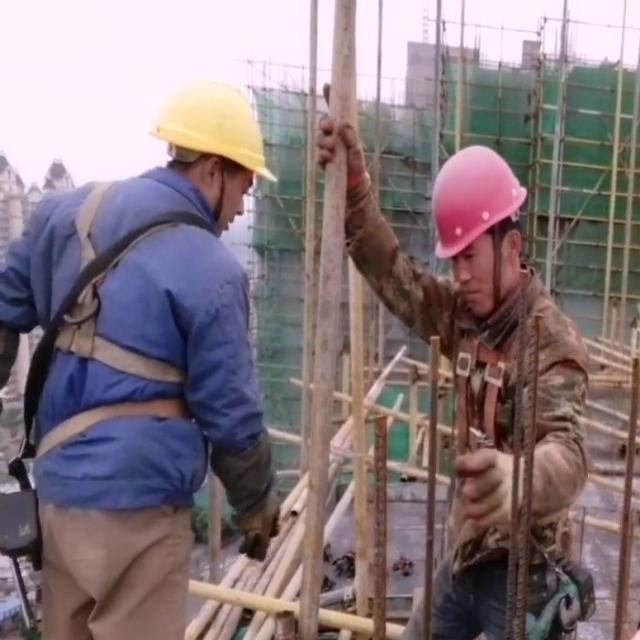Arnes_seguridad: (21, 173, 235, 410), (425, 267, 521, 451)
